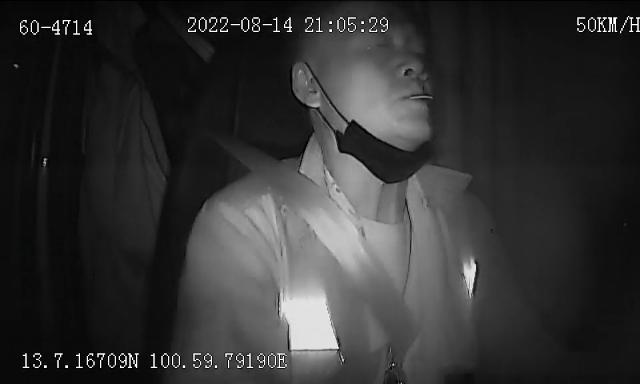Seatbelt: (233, 148, 414, 360)
